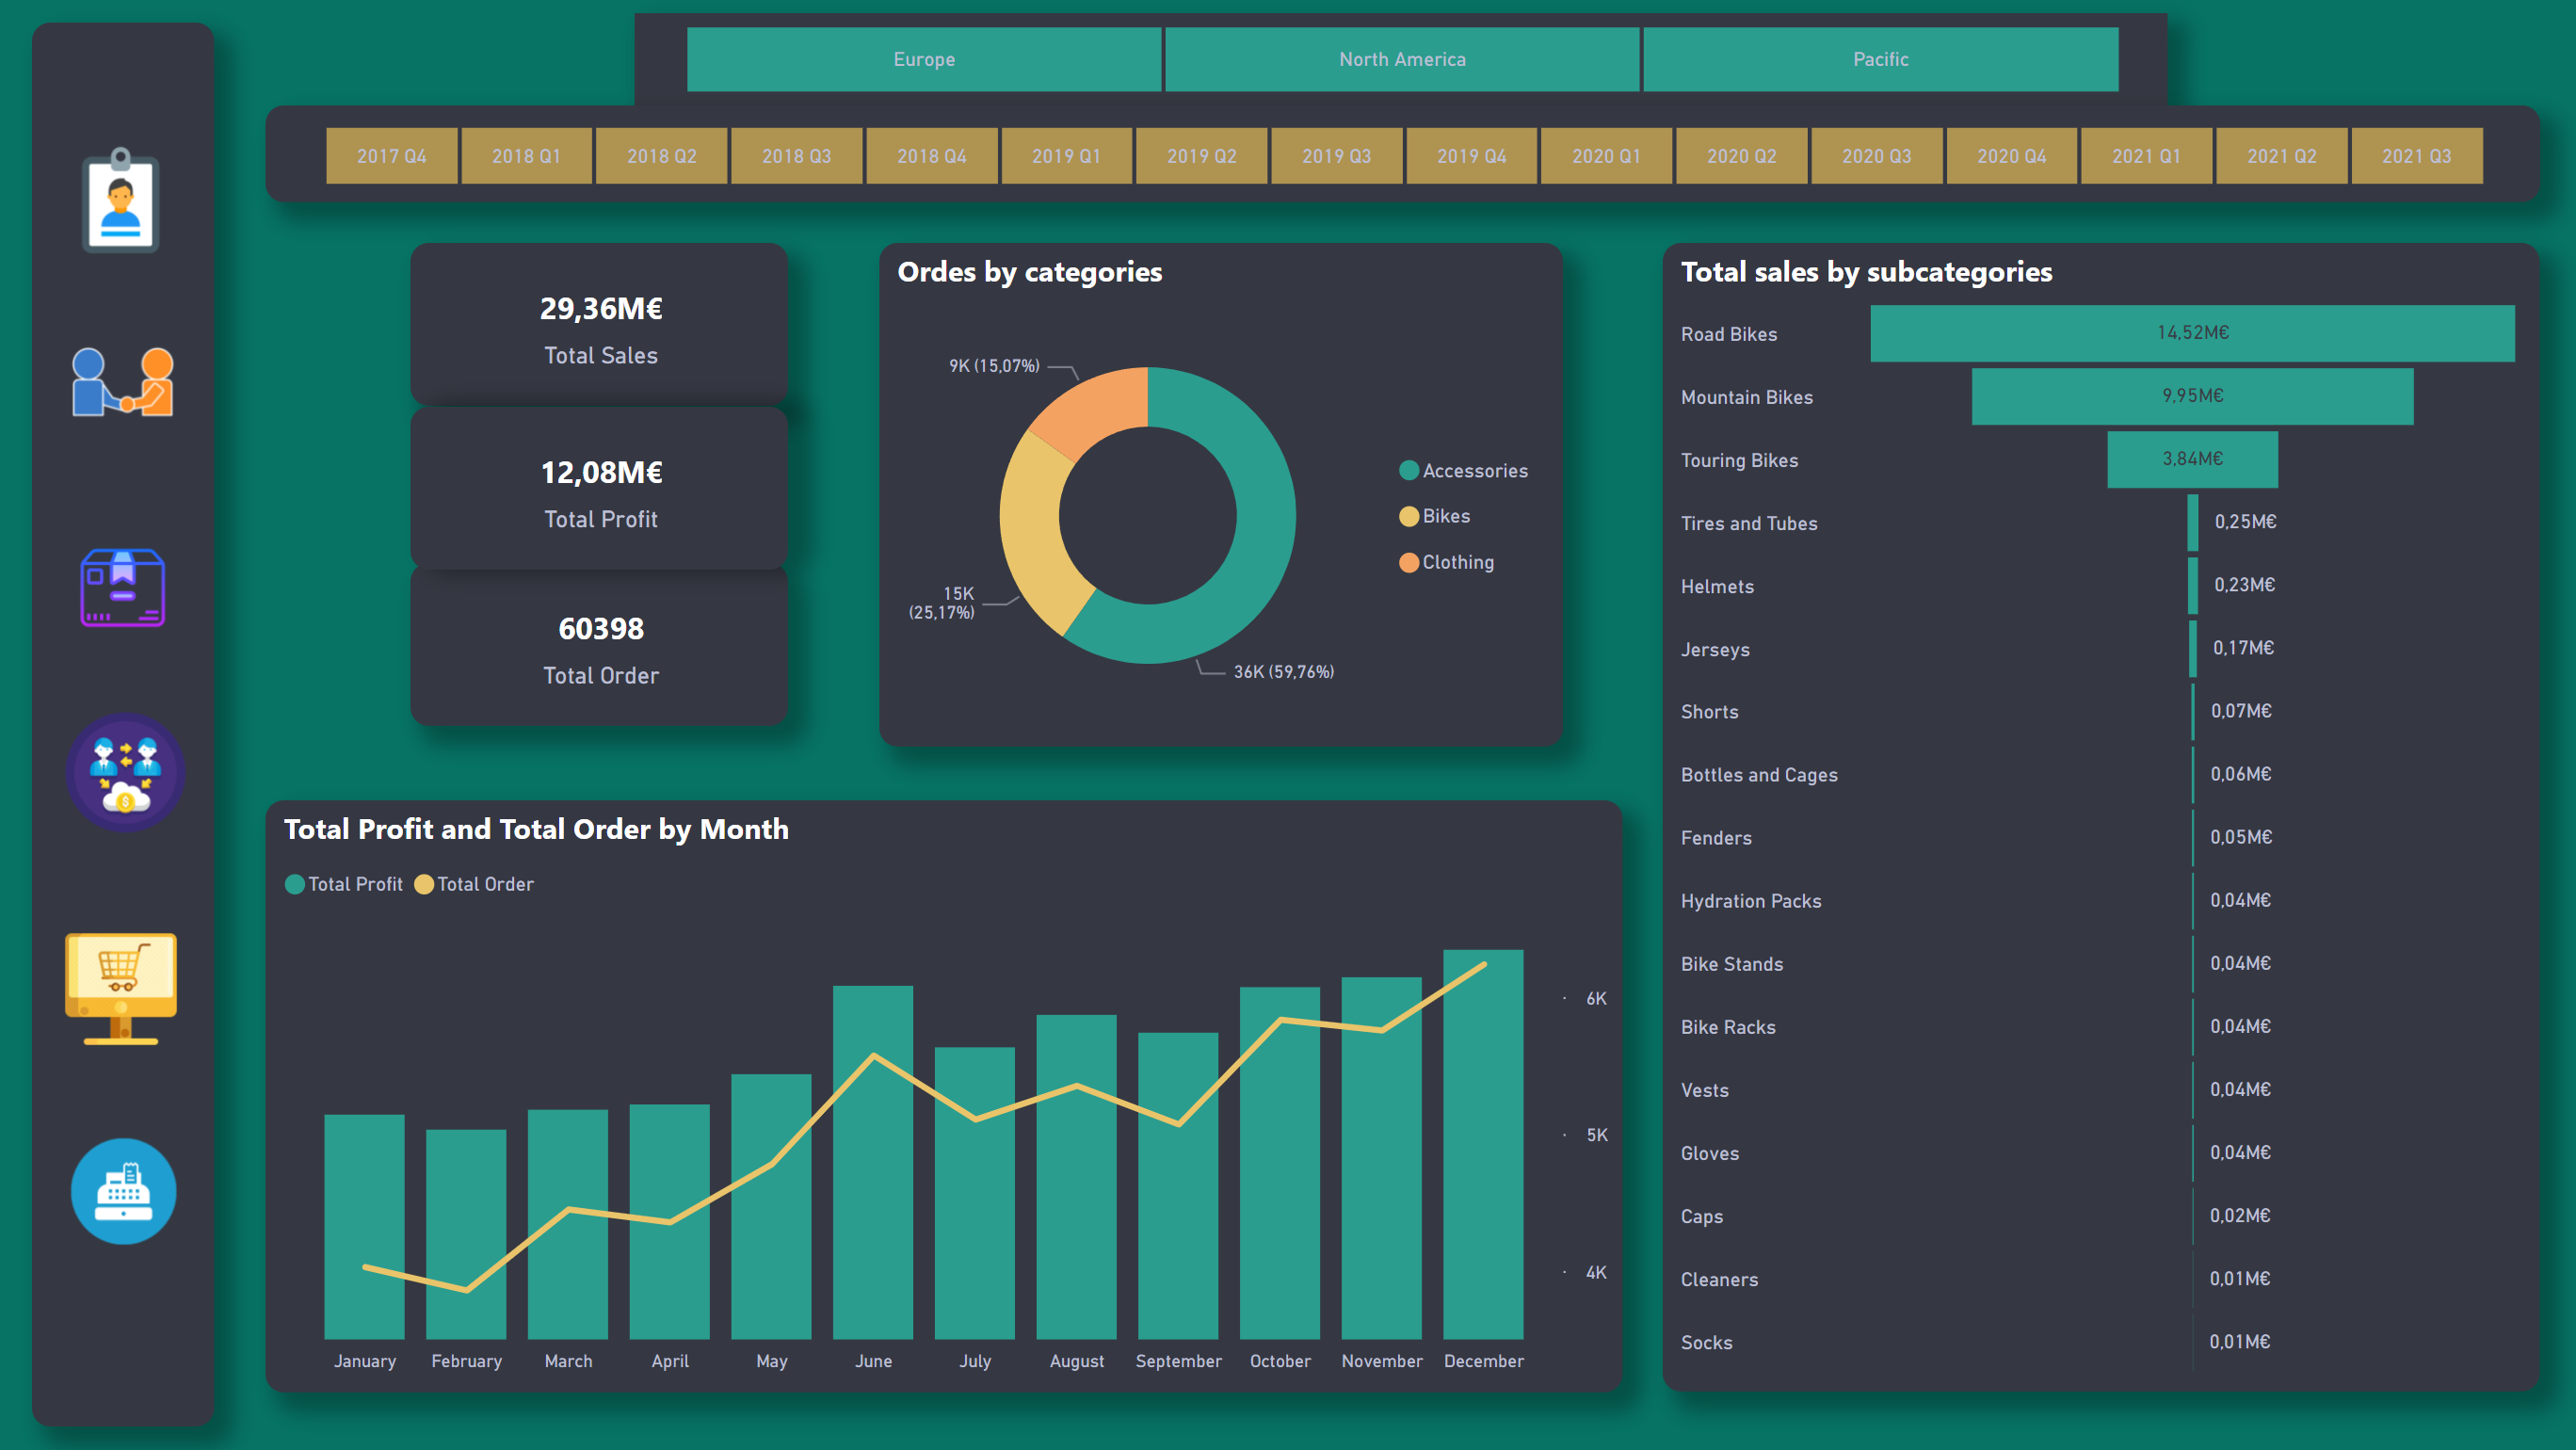

Layout of this report page (visuals, bound fields, positions):
{"tool":"powerbi","page":{"name":"InternetStore","canvas":[1280,720],"ordinal":4},"visuals":[{"type":"slicer","fields":{"Values":["DimSalesTerritory.SalesTerritoryGroup"]},"box":[316,10.5,753.3,45.3],"z":0},{"type":"funnel","title":"Total sales by subcategories","fields":{"Category":["DimProductSubcategory.Subcategory"],"Y":["Sum(FactSales.SalesAmount)"]},"box":[820.7,123.3,430.9,564.7],"z":1000},{"type":"donutChart","title":"Ordes by categories","fields":{"Category":["DimProductCategory.Category"],"Y":["FactSales.Total Order"]},"box":[436.1,123.3,336.1,247.6],"z":2000},{"type":"slicer","fields":{"Values":["DimDate.QuarterYear"]},"box":[133.8,55.8,1117.8,47.4],"z":3000},{"type":"lineClusteredColumnComboChart","fields":{"Y2":["FactSales.Total Order"],"Y":["FactSales.Total Profit"],"Category":["DimDate.Start of Month.Variation.Date Hierarchy.Month"]},"box":[133.8,397.2,666.9,290.8],"z":4000},{"type":"card","fields":{"Values":["FactSales.Total Order"]},"box":[205.4,280.2,185.4,80.1],"z":5000},{"type":"card","fields":{"Values":["FactSales.Total Sales"]},"box":[205.4,123.3,185.4,80.1],"z":6000},{"type":"card","fields":{"Values":["FactSales.Total Profit"]},"box":[205.4,203.3,185.4,80.1],"z":7000},{"type":"shape","box":[19.2,14.9,89.6,690.1],"z":8000},{"type":"actionButton","title":"Employee","box":[30.9,67.2,65.1,69.3],"z":9000},{"type":"actionButton","box":[30.9,152.5,65.1,75.7],"z":10000},{"type":"actionButton","box":[30.9,253.9,65.1,75.7],"z":11000},{"type":"actionButton","box":[25.6,343.5,76.8,77.9],"z":12000},{"type":"actionButton","box":[25.6,452.3,76.8,72.5],"z":13000},{"type":"actionButton","box":[30.9,552.5,66.1,71.5],"z":14000}]}

Visuals, with their boxes in screenshot pixels (x1, y1, x2, y2), scaled from the page's 1280x720 canvas onto the 2576x1450 screenshot:
slicer - DimSalesTerritory.SalesTerritoryGroup: (x1=636, y1=21, x2=2152, y2=112)
"Total sales by subcategories" funnel: (x1=1651, y1=249, x2=2519, y2=1386)
"Ordes by categories" donutChart: (x1=877, y1=249, x2=1554, y2=747)
slicer - DimDate.QuarterYear: (x1=269, y1=112, x2=2519, y2=208)
lineClusteredColumnComboChart - FactSales.Total Order x FactSales.Total Profit: (x1=269, y1=800, x2=1611, y2=1386)
card - FactSales.Total Order: (x1=413, y1=564, x2=786, y2=726)
card - FactSales.Total Sales: (x1=413, y1=249, x2=786, y2=410)
card - FactSales.Total Profit: (x1=413, y1=410, x2=786, y2=571)
shape: (x1=39, y1=30, x2=219, y2=1420)
"Employee" actionButton: (x1=62, y1=136, x2=193, y2=275)
actionButton: (x1=62, y1=307, x2=193, y2=459)
actionButton: (x1=62, y1=511, x2=193, y2=664)
actionButton: (x1=52, y1=692, x2=206, y2=848)
actionButton: (x1=52, y1=910, x2=206, y2=1056)
actionButton: (x1=62, y1=1113, x2=195, y2=1257)
